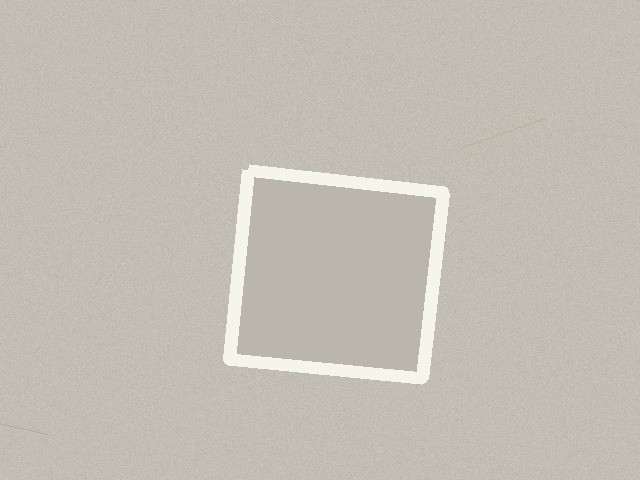parking_area: (229, 170, 443, 378)
